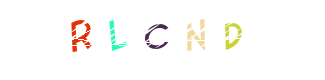C: (115, 0, 195, 80)
D: (154, 0, 234, 80)
L: (74, 0, 154, 80)
N: (122, 0, 202, 80)
R: (40, 0, 120, 80)
